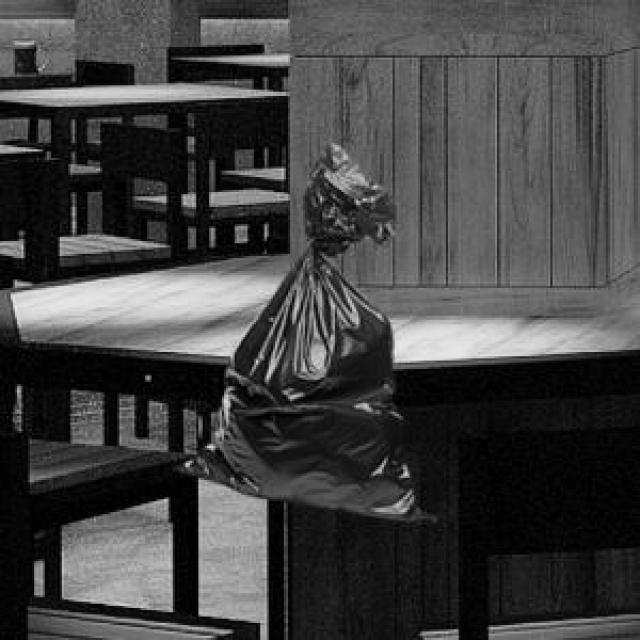miscellaneous trash: (171, 141, 430, 516)
